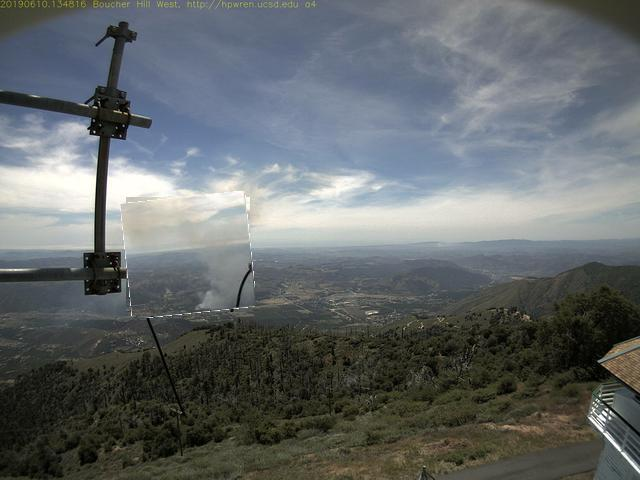smoke: (124, 195, 255, 317)
